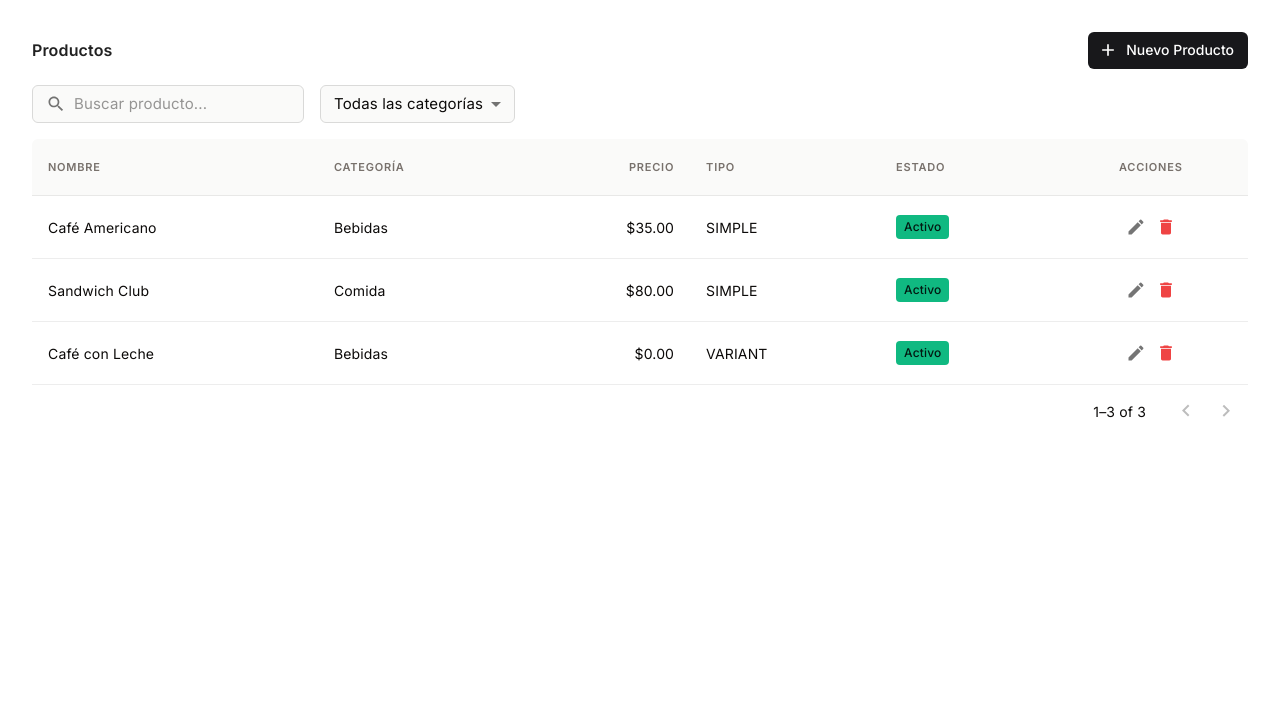
it: ProductList › shows delete confirmation dialog when delete is clicked
This screenshot has width=1280, height=720.
Expected: the text "Café Americano" is shown, [32,196,318,259]
Click the button named "eliminar" at point(1166, 227), box [1151,212,1181,242]
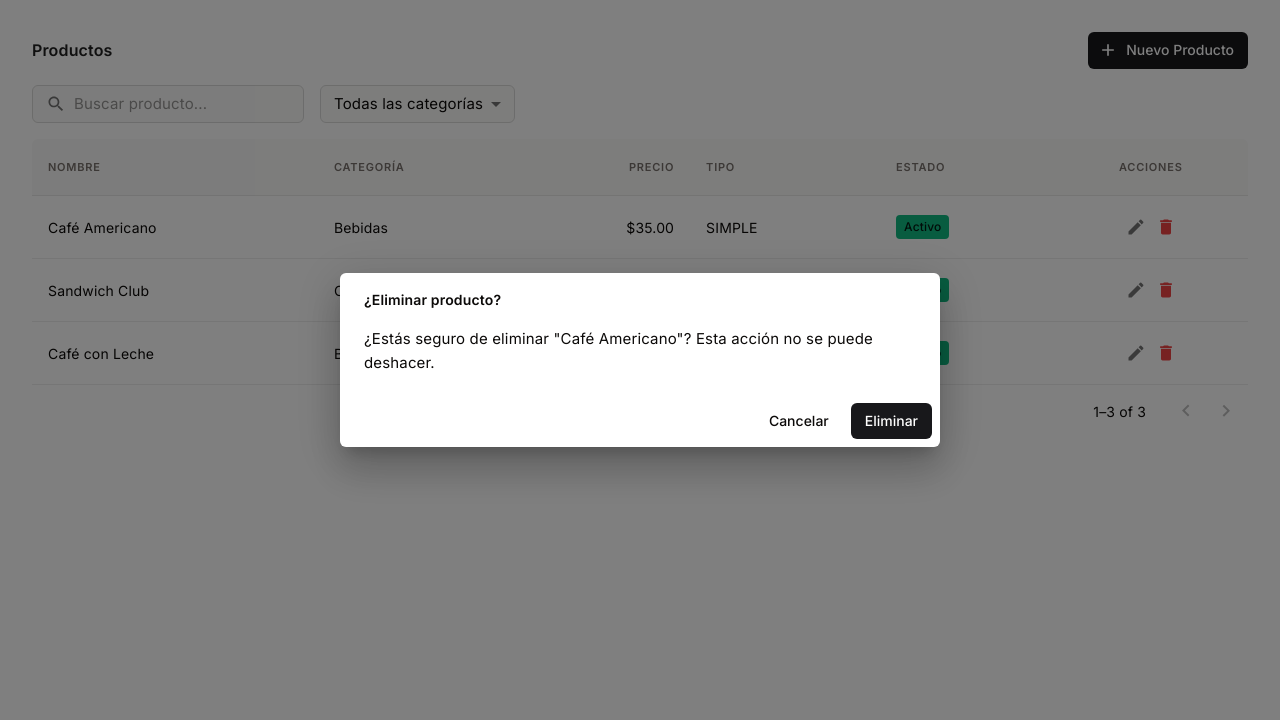
Expected: the dialog is shown, [340,272,940,447]
Expected: the heading "¿Eliminar producto?" is shown, [364,290,501,308]
